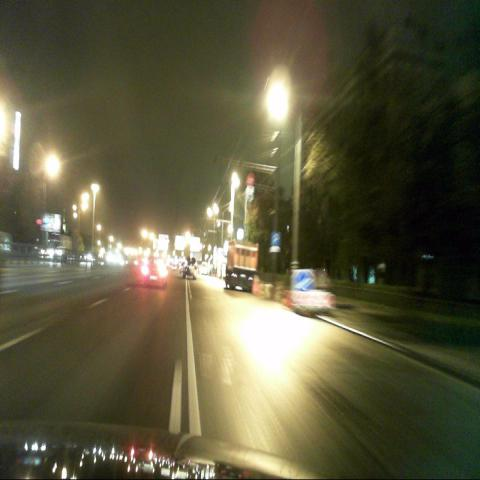4_2_2: (297, 268, 313, 295)
